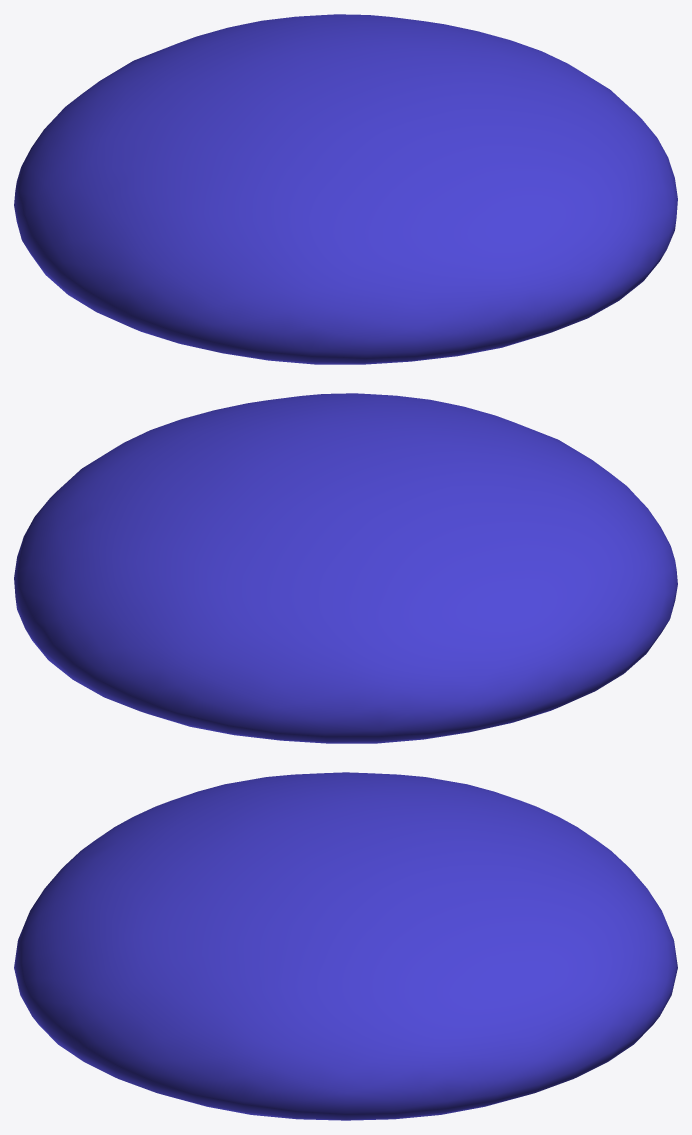
The model's file is Chip.fbx.
3 renders of one model, top to bottom at view 1: azimuth 30°, elevation 25°; view 2: azimuth 150°, elevation 25°; view 3: azimuth 270°, elevation 25°, orthographic.
Parts seen in each view (by area): view 1: Chip; view 2: Chip; view 3: Chip.
Part boxes in pixels (<box>): Chip: <box>14,14,677,364</box>; Chip: <box>14,393,677,743</box>; Chip: <box>14,772,677,1120</box>.
Size of the model in its own units: 182 by 54.42 by 182.
